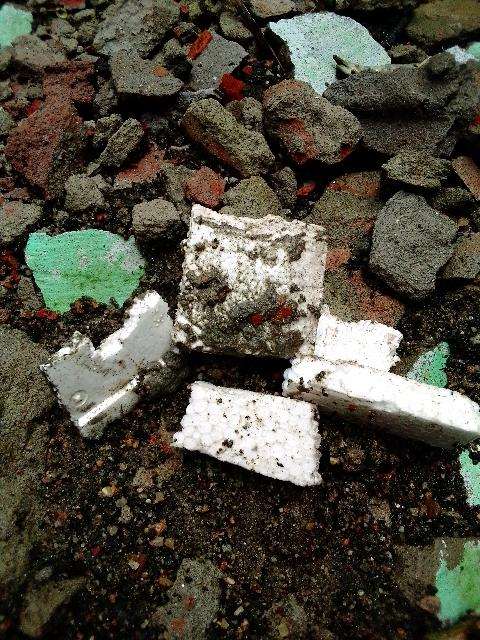cocksheet: (42, 184, 480, 492)
